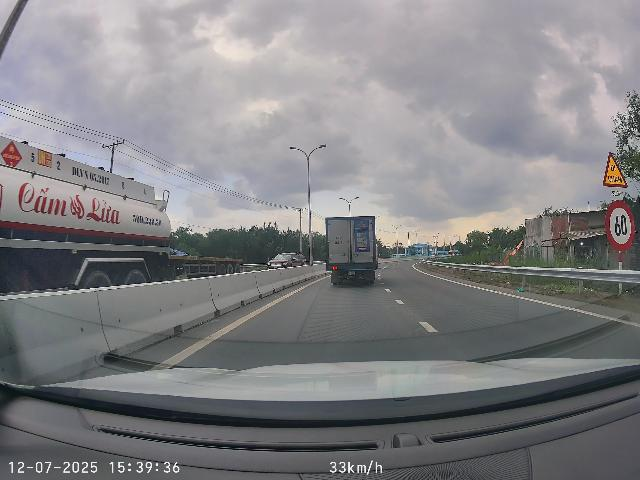127-toc-do-toi-da-60: (604, 200, 635, 251)
245-di-cham: (603, 151, 628, 189)
